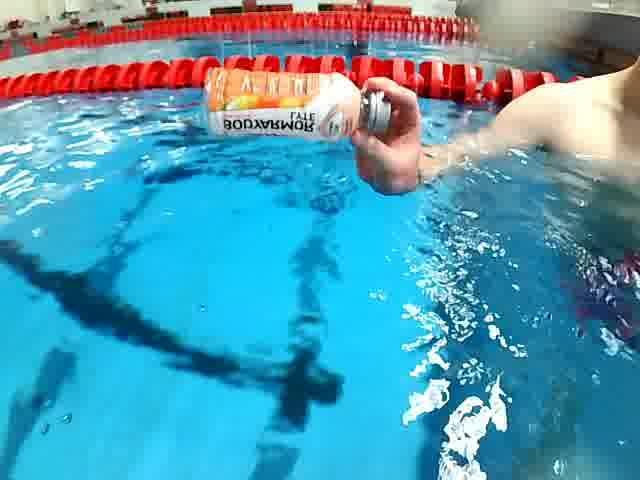Bottle: (206, 66, 393, 144)
